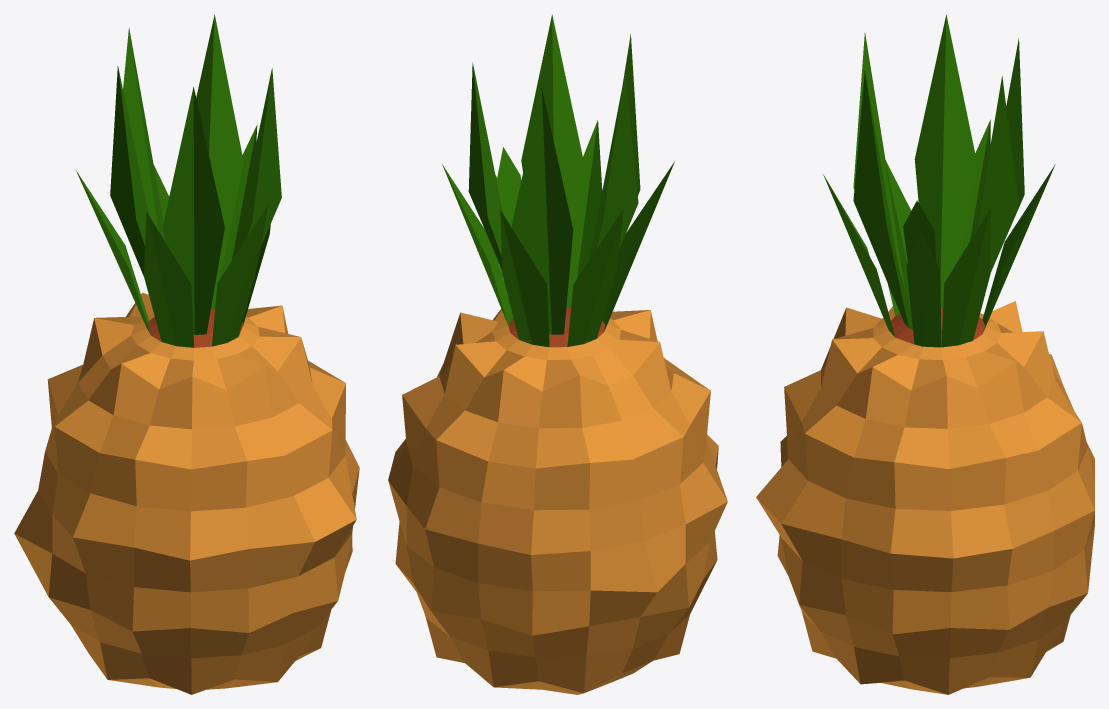
Rendered from Pineapple.fbx.
3 views of the same model, side by side, from view 1: azimuth 30°, elevation 25°; view 2: azimuth 150°, elevation 25°; view 3: azimuth 270°, elevation 25° (orthographic).
Parts seen in each view (by area): view 1: Sphere.002; view 2: Sphere.002; view 3: Sphere.002.
Boxes of the visible parts, x1=… form: Sphere.002: x1=14, y1=14, x2=359, y2=694; Sphere.002: x1=388, y1=14, x2=727, y2=694; Sphere.002: x1=756, y1=15, x2=1094, y2=694.
Size of the model in its own units: 109 by 216 by 107.
